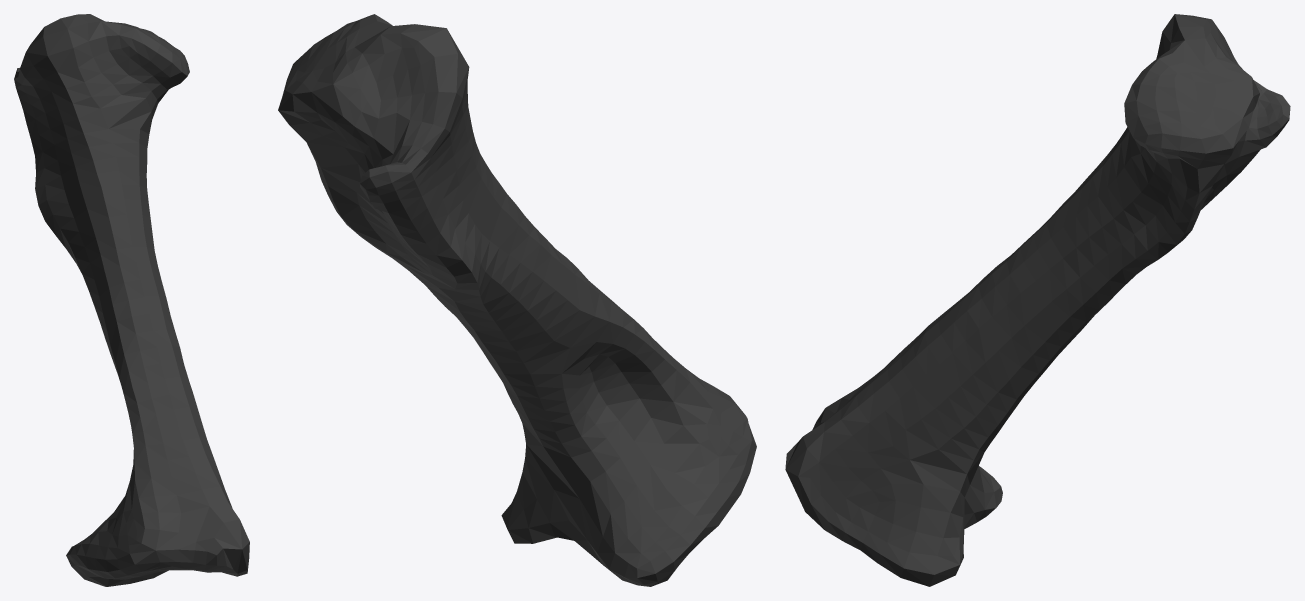
File: RHL_femur_main.glb
3 views of the same model, side by side, from view 1: azimuth 30°, elevation 25°; view 2: azimuth 150°, elevation 25°; view 3: azimuth 270°, elevation 25° (orthographic). The views are drawn at different scales.
Visible parts, largest first — view 1: RHL_femur_main; view 2: RHL_femur_main; view 3: RHL_femur_main.
Part boxes in pixels (x1,y1,x2,y2): RHL_femur_main: (14,14,249,586); RHL_femur_main: (278,14,756,586); RHL_femur_main: (785,14,1290,586).
Size of the model in its own units: 23.66 by 51.48 by 43.55.
Materials: 1 (1 with a texture image).
